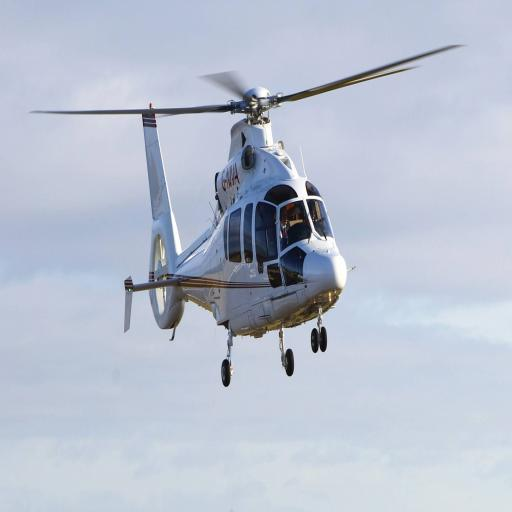helicopter: (72, 68, 370, 400)
